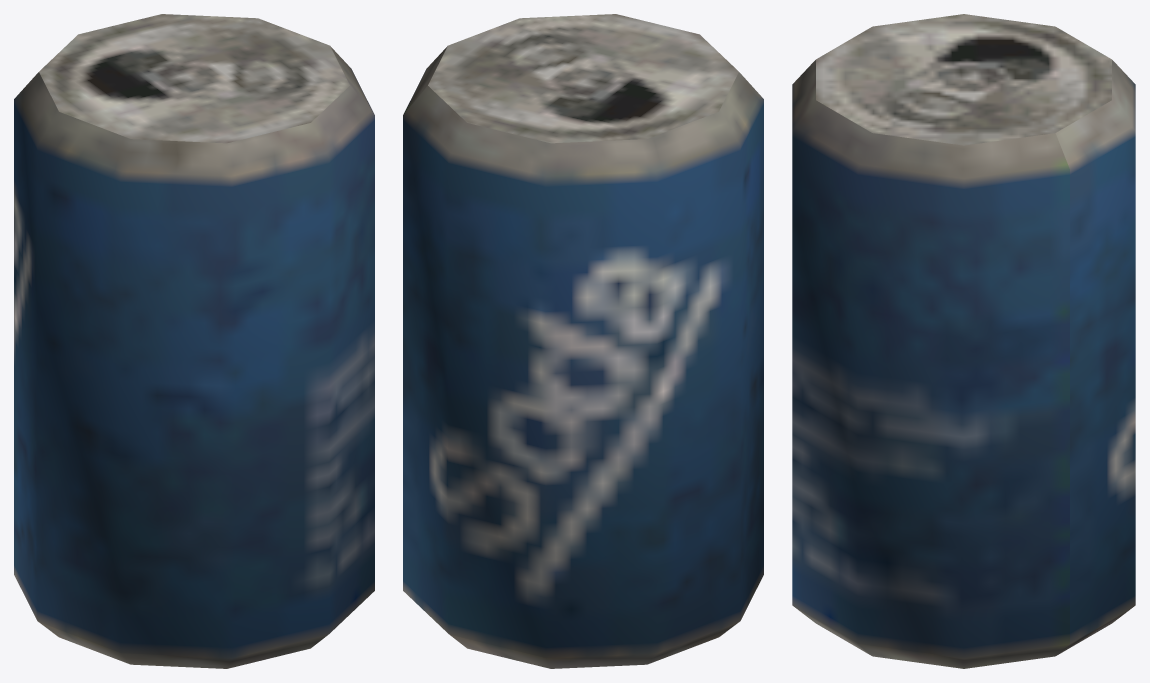
The model's file is can_blue.dae.
The picture shows the model from 3 angles, left to right: view 1: azimuth 30°, elevation 25°; view 2: azimuth 150°, elevation 25°; view 3: azimuth 270°, elevation 25°; orthographic projection.
Parts seen in each view (by area): view 1: pCylinder3; view 2: pCylinder3; view 3: pCylinder3.
Part boxes in pixels (x1=…): pCylinder3: x1=14, y1=14, x2=374, y2=668; pCylinder3: x1=403, y1=14, x2=763, y2=668; pCylinder3: x1=792, y1=14, x2=1135, y2=668.
Size of the model in its own units: 11.42 by 18.26 by 10.86.
